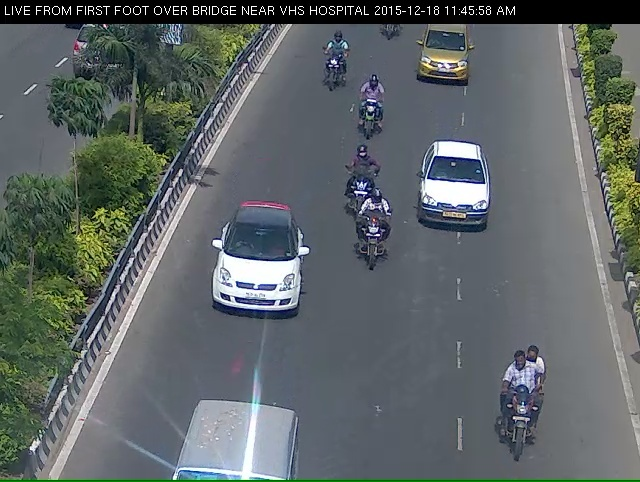Car: (207, 223, 301, 357), (416, 152, 498, 248), (417, 25, 476, 101)
Person: (491, 376, 551, 480), (356, 212, 389, 298), (338, 169, 378, 236), (308, 38, 339, 113), (356, 87, 380, 153)
